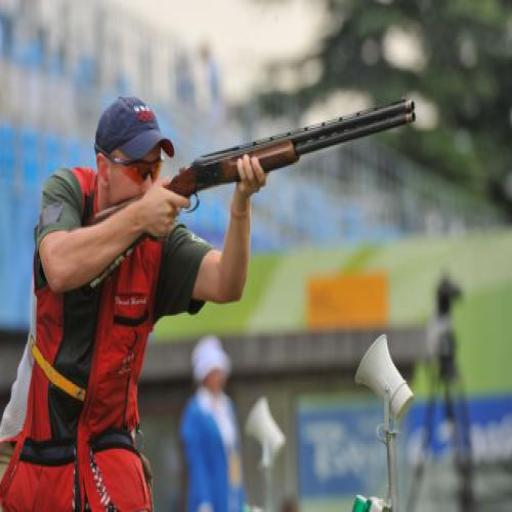shooting: (0, 92, 271, 510)
